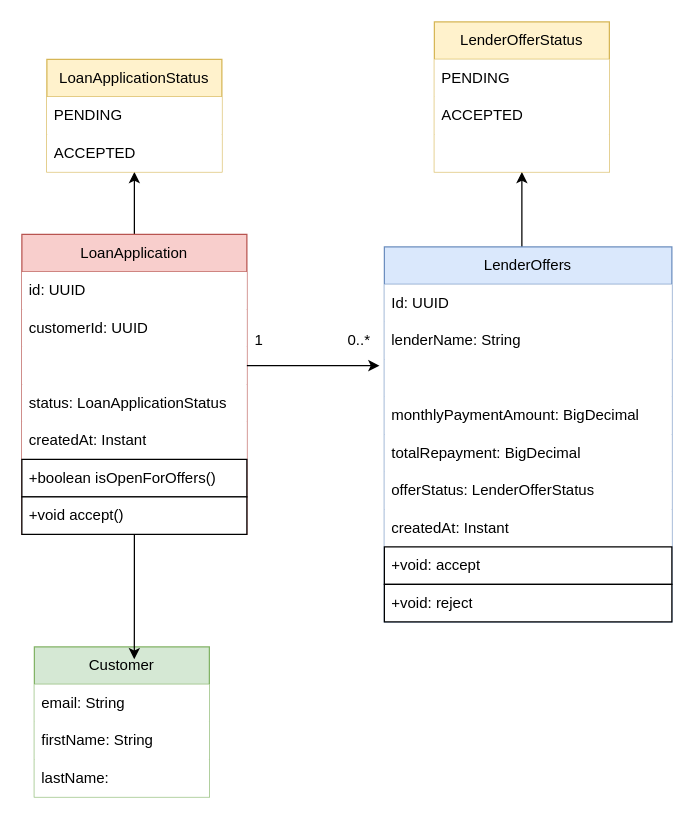
Some shapes in this 694 by 819 pixel diagram are drawn without their labels. Each missing label, with the centre of its shape:
amount: BigDecimal: pixel 133 365
annualInterestRate: BigDecimal: pixel 527 377
REJECTED: pixel 521 152
